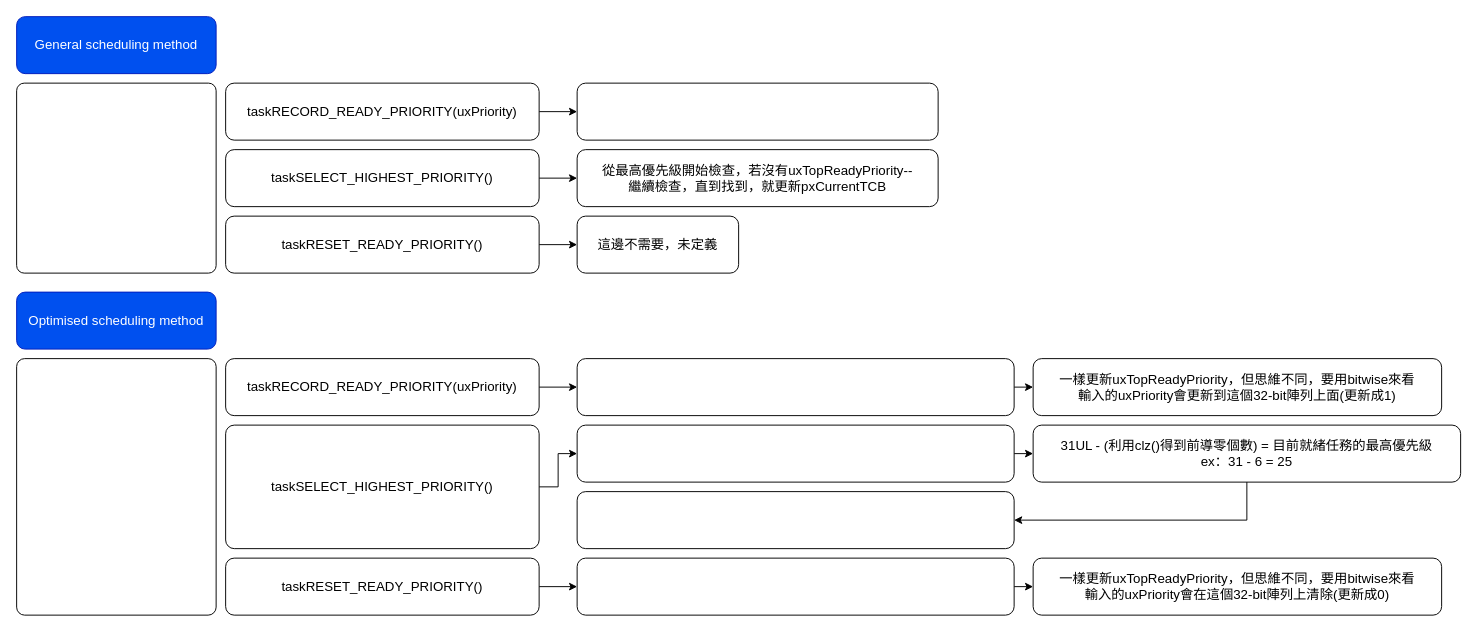
Image size: 1477x632. Some labels were removed from this diagram. The centre of each missing label's shape, as x and y in pixels:
portGET_HIGHEST_PRIORITY(uxTopPriority, uxTopReadyPriority): pixel 795 453
portRECORD_READY_PRIORITY(uxPriority, uxTopReadyPriority): pixel 795 387
portRESET_READY_PRIORITY(uxPriority, uxTopReadyPriority): pixel 795 586
利用得到的uxTopPriority調用listGET_OWNER_OF_NEXT_ENTRY 更新pxCurrentTCB: pixel 795 520
定義 優化查找最高優先級方法: pixel 116 486
定義 通用查找 最高優先級方法: pixel 116 177
更新最高優先級 ( 輸入uxPriority判斷是否更新uxTopReadyPriority ): pixel 757 111
